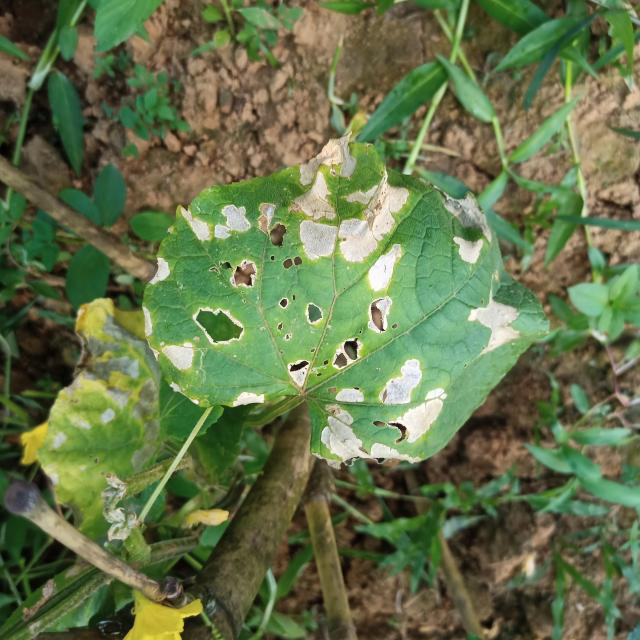disease_cucumber: (144, 140, 532, 453)
